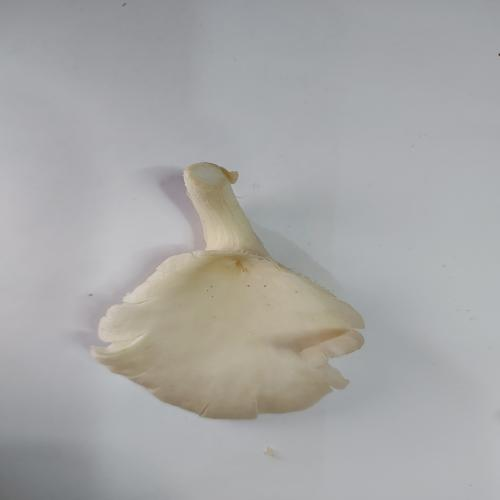Oyster Mushroom: (90, 161, 366, 421)
